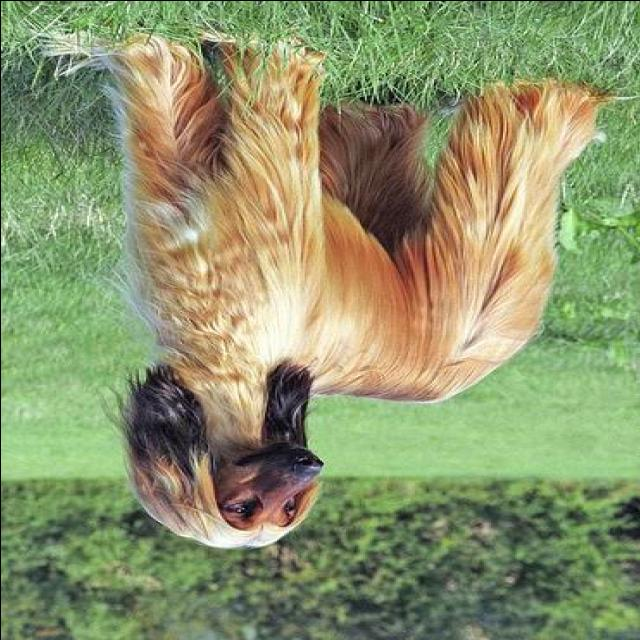afghan_hound: (31, 29, 611, 550)
